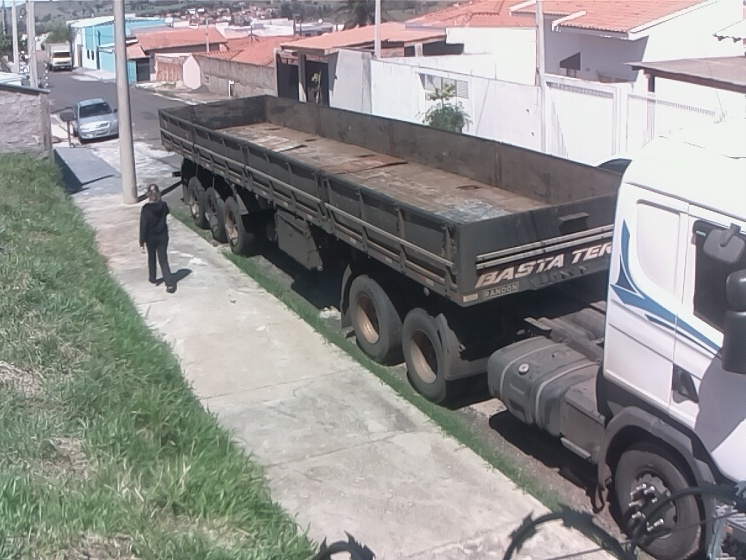person: (138, 182, 179, 293)
